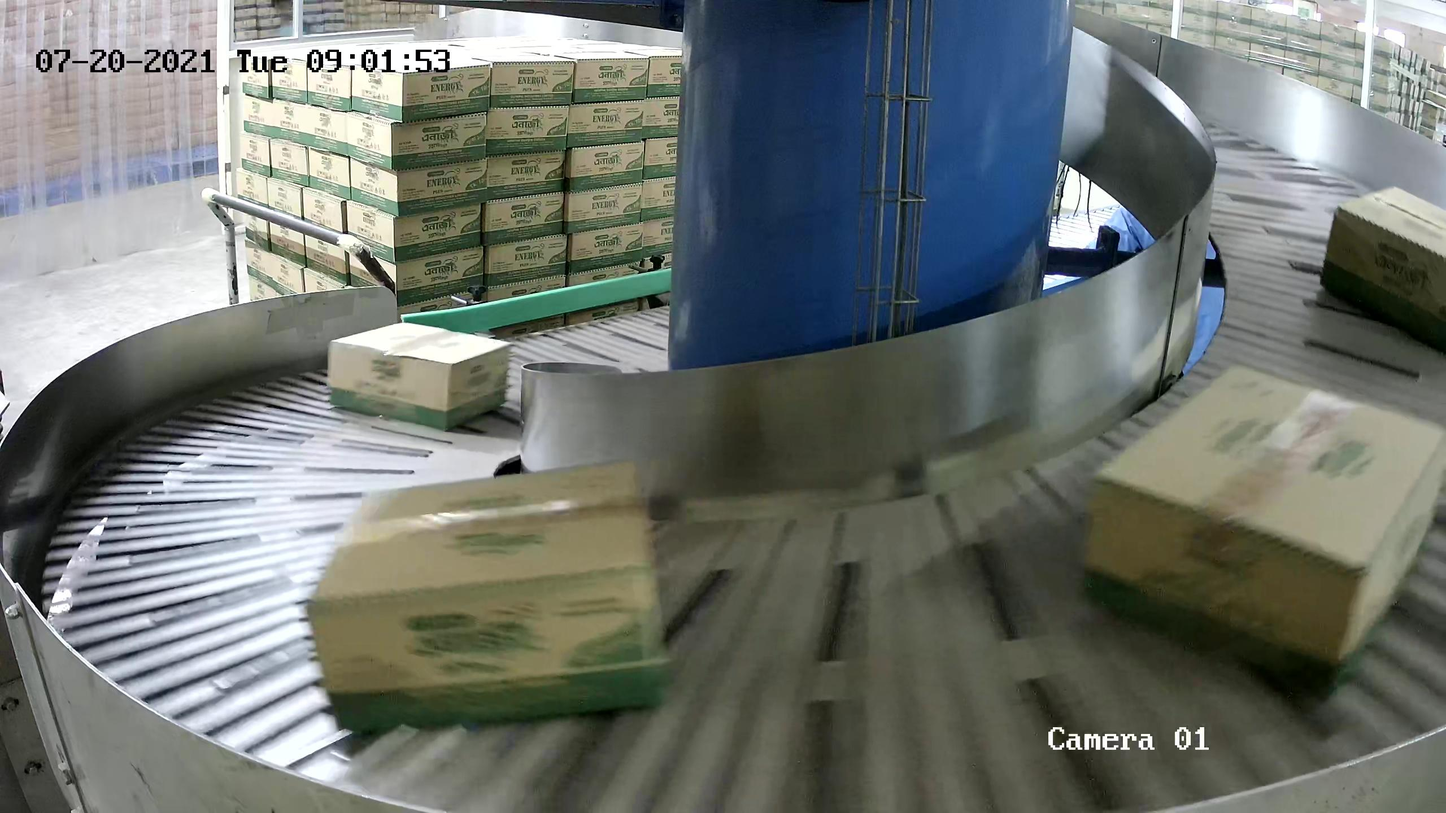Box: (1077, 361, 1446, 701), (307, 459, 669, 733), (1319, 185, 1446, 355), (327, 321, 513, 434)
